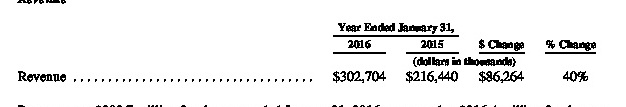table: (0, 0, 626, 107)
